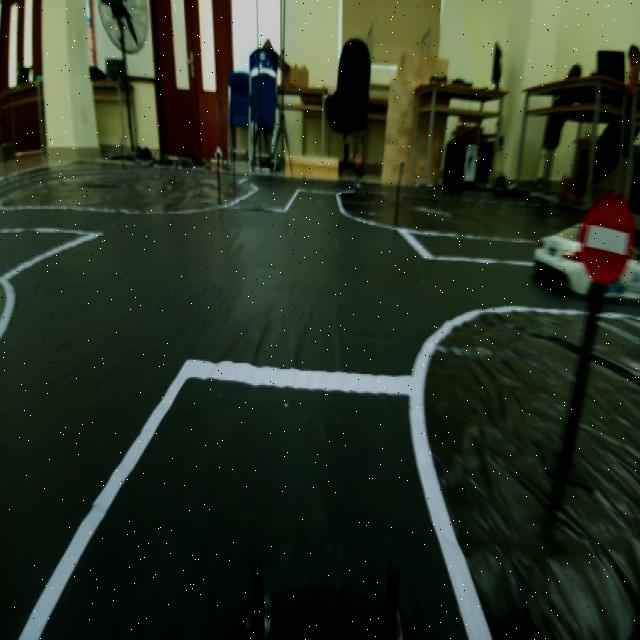no_entry: (571, 186, 640, 273)
